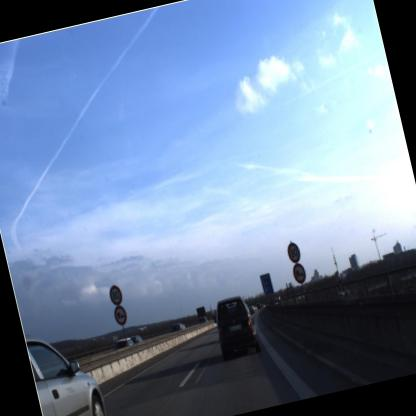prohibitory: (288, 260, 312, 287), (104, 280, 127, 308), (110, 305, 132, 334), (284, 238, 304, 266)
